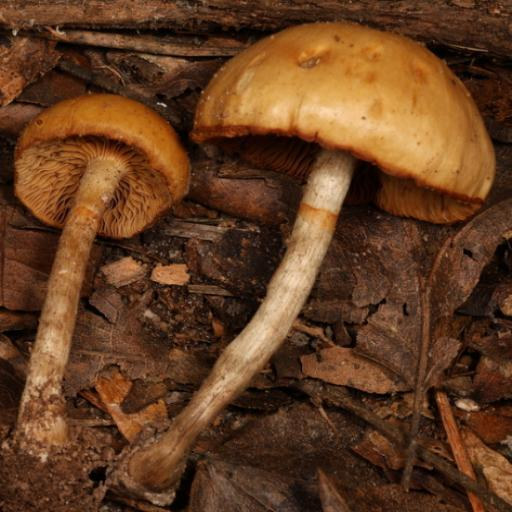mushroom: (195, 6, 499, 378), (9, 86, 191, 334)
